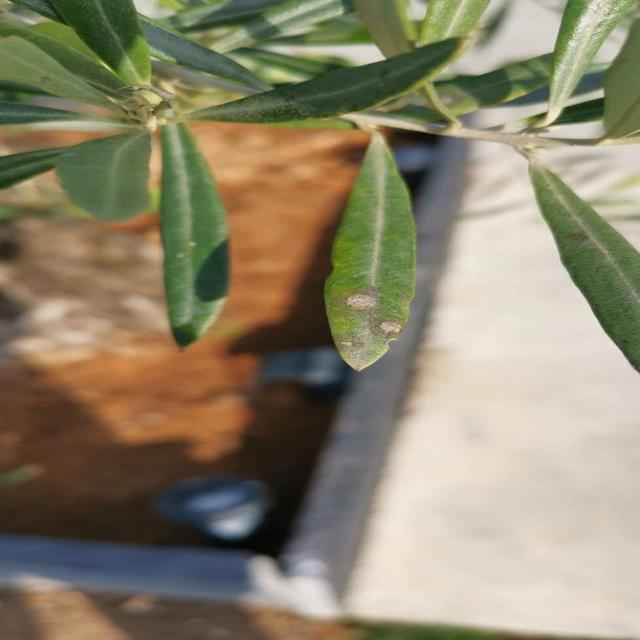Peacock Eye: (324, 140, 415, 371)
